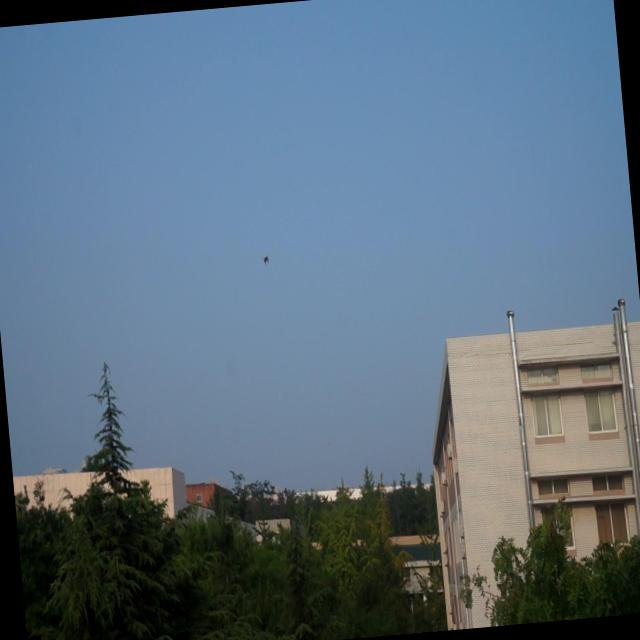drone: (259, 248, 273, 270)
